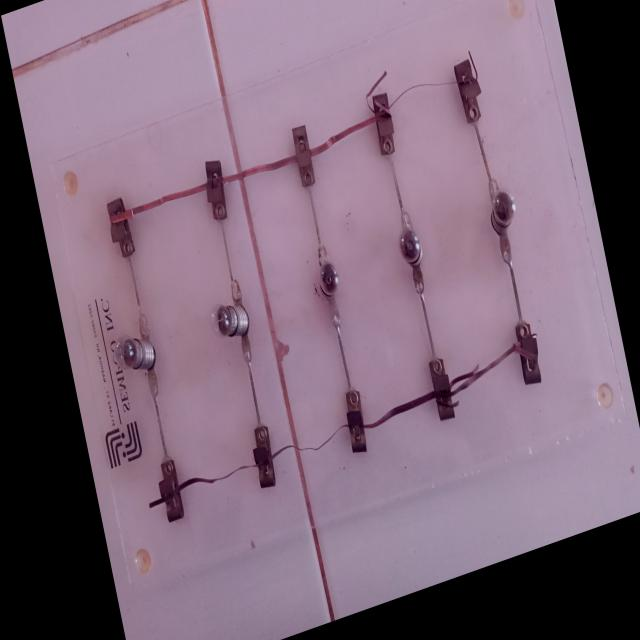Set of Resistors and Bulbs: (68, 22, 570, 555)
